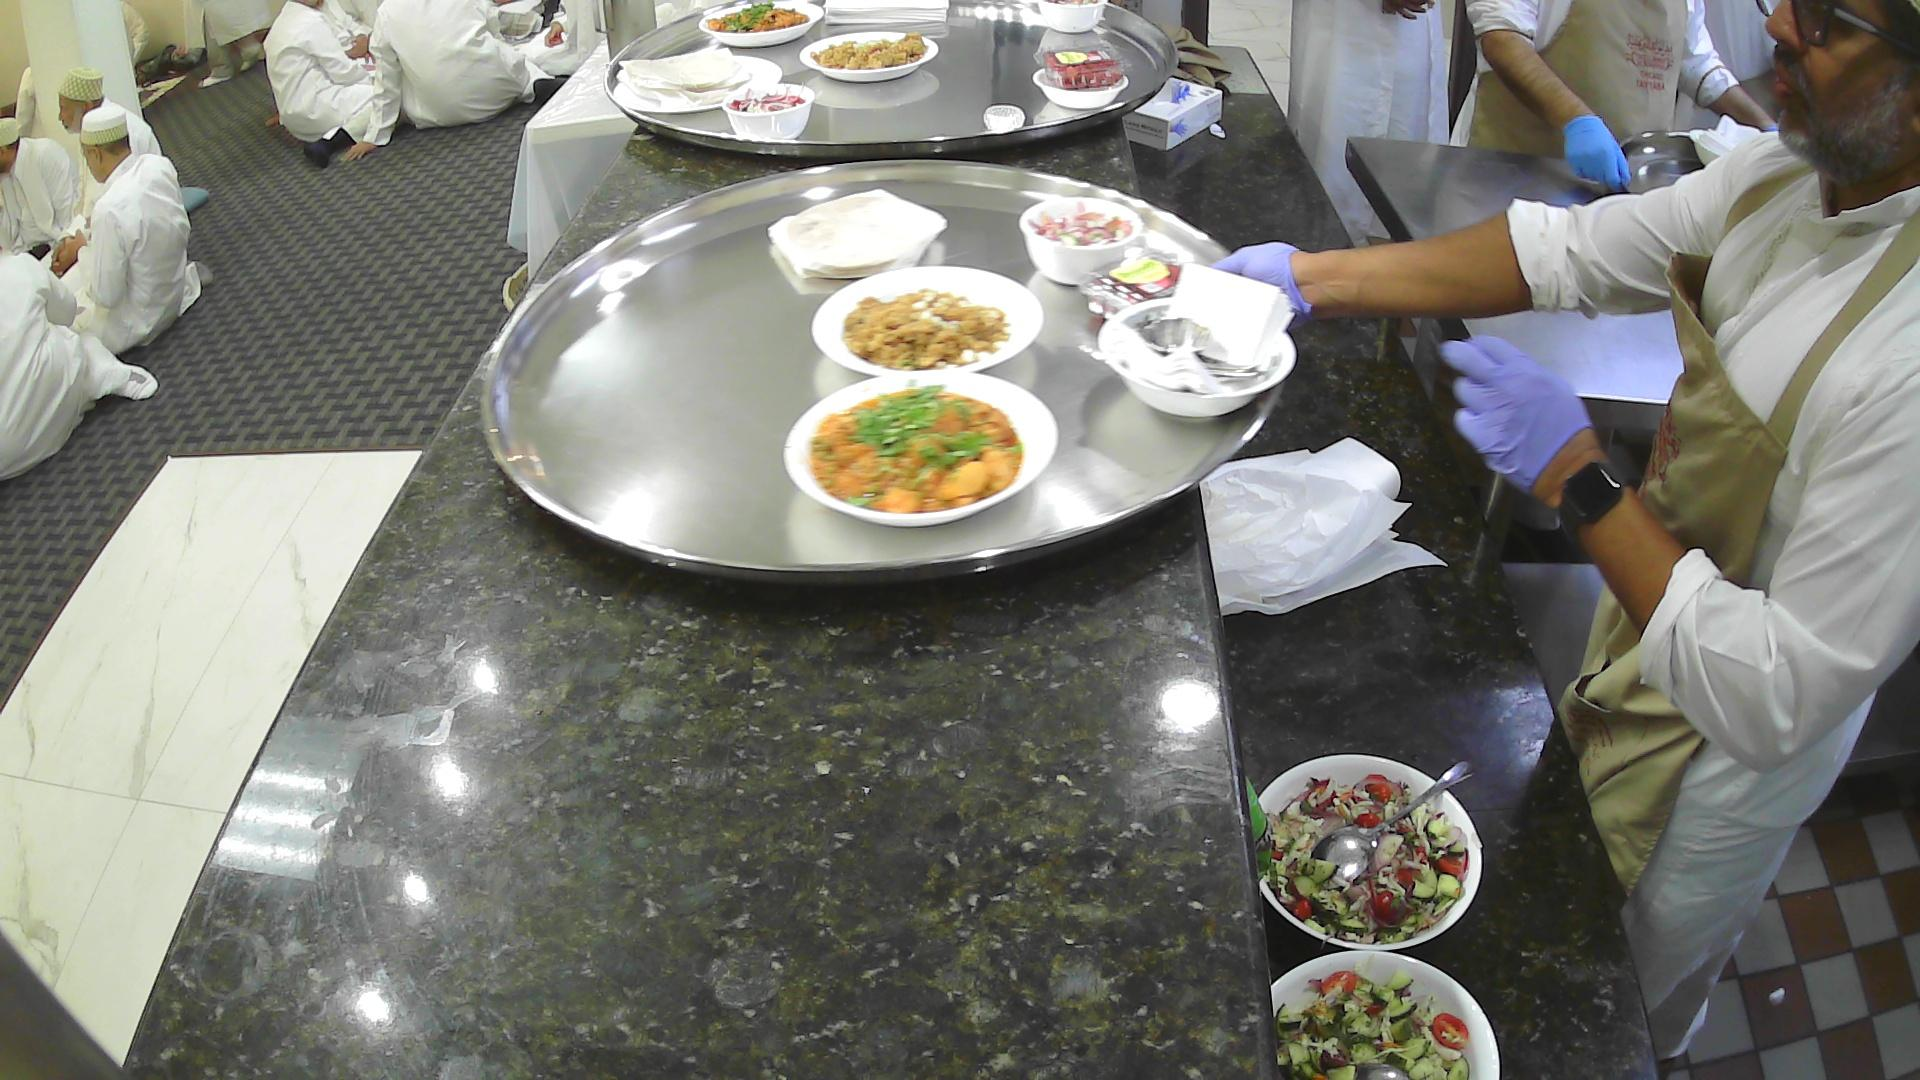thaal: (477, 156, 1294, 591), (603, 0, 1180, 161)
